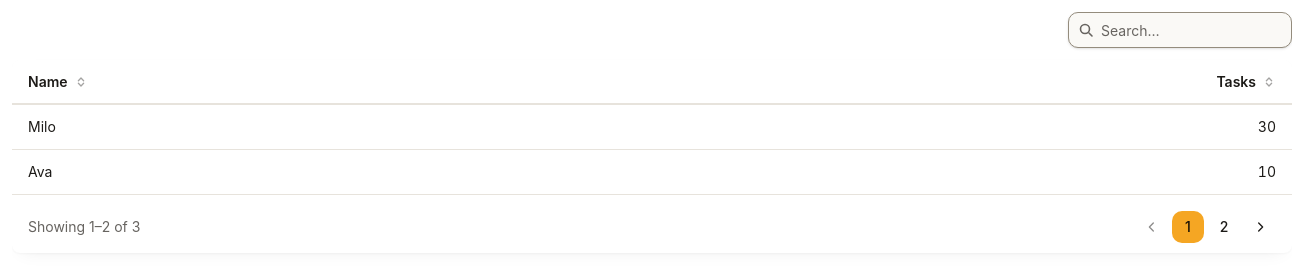
Test case: DataTable › uses `messages` to translate the empty/no-results text and the search label
Note: filter everything out → the footer shows the translated no-results string
Step 1. Type "zzz" into the field named "Suchen" → (1180, 30), box [1068, 12, 1292, 48]
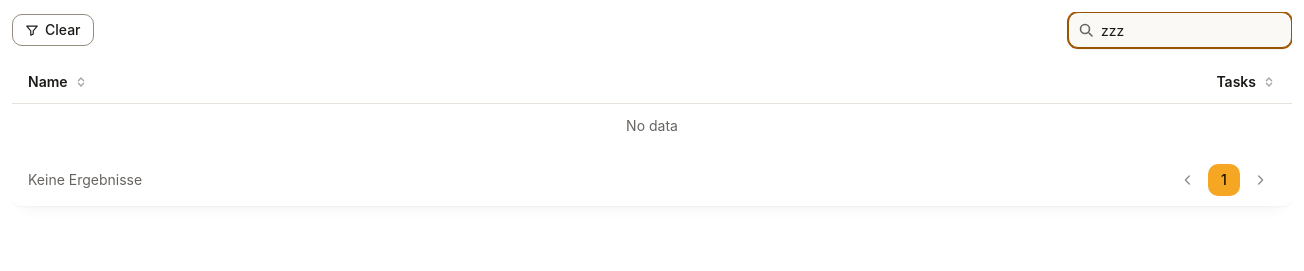
Check: the text "Keine Ergebnisse" is shown, box [28, 170, 142, 190]
